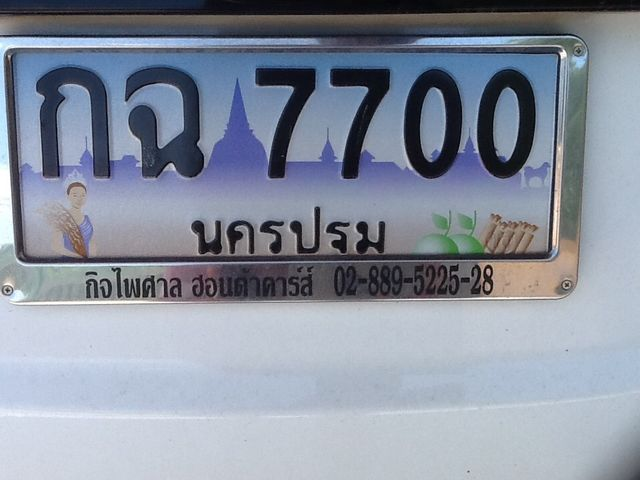Non-Bangkok: (170, 201, 395, 267)
